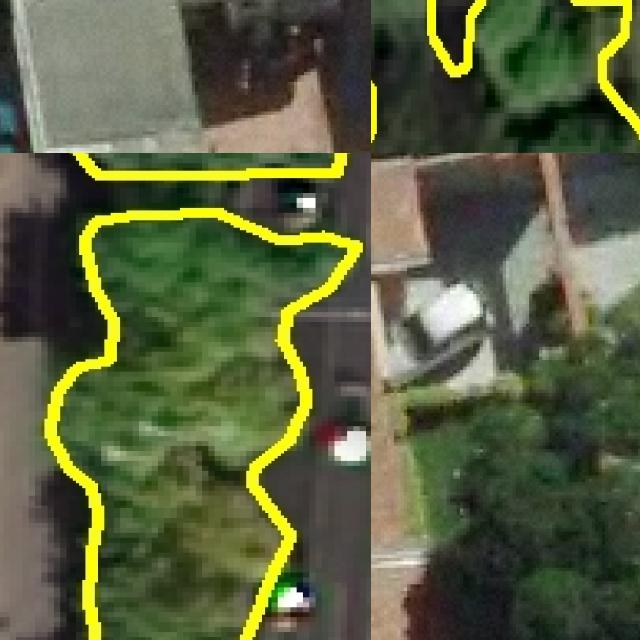trees: (49, 211, 358, 640), (441, 297, 640, 640), (372, 1, 640, 154), (77, 154, 342, 177)
